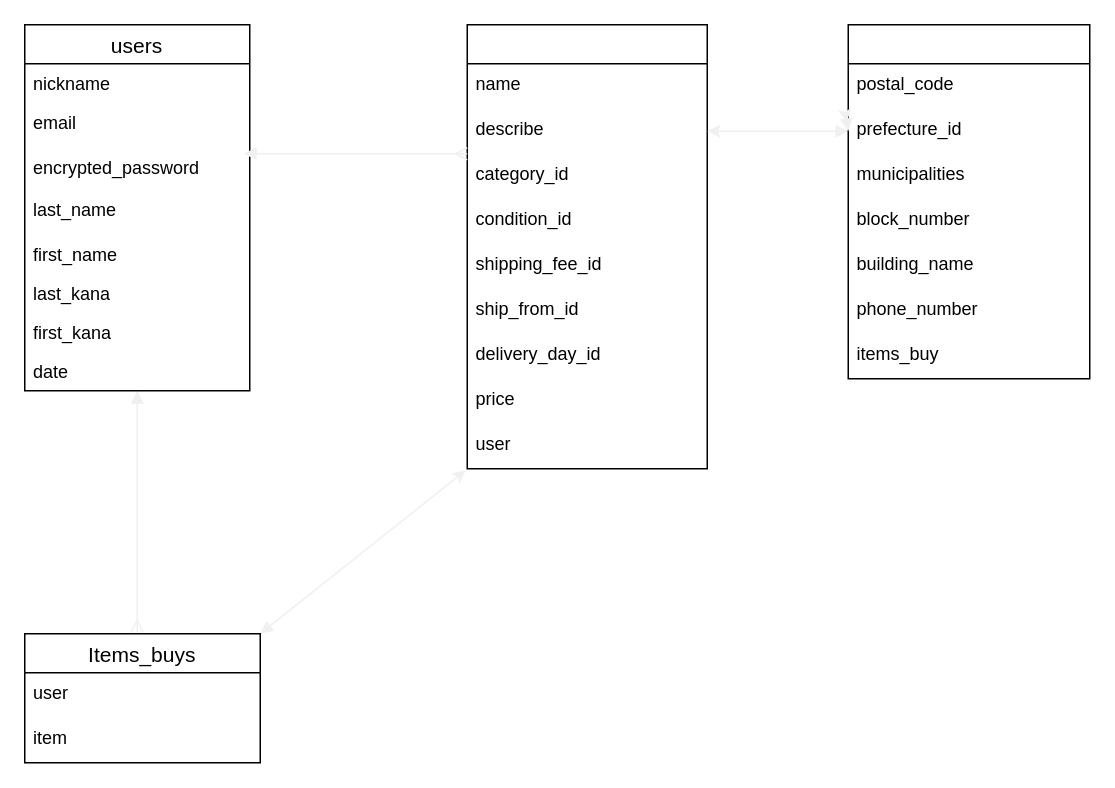
The diagram is 1115 pixels wide and 788 high, and some of its shapes have lost their labels. The box of each missing label's shape, as (x1, y1, x2, y2) in pixels:
address: (847, 23, 1090, 379)
items: (466, 23, 707, 469)
